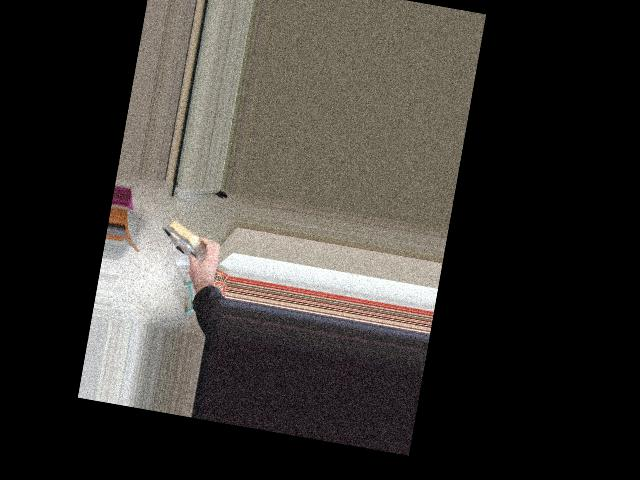cheese: (154, 208, 234, 276)
